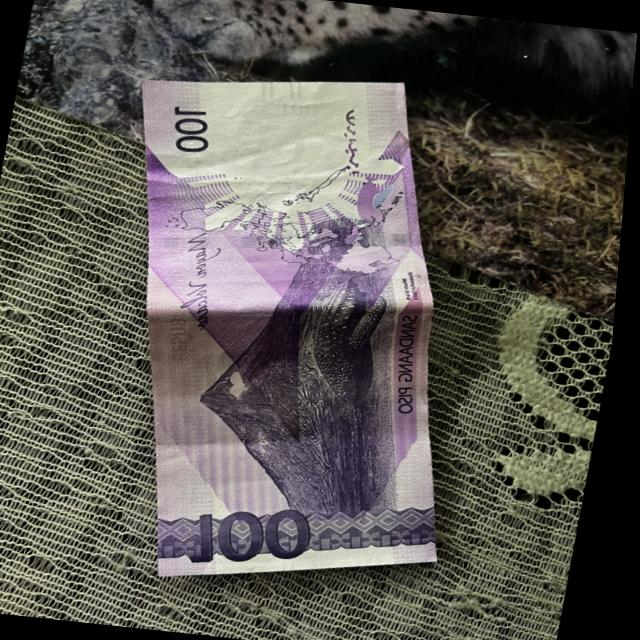see_through_mark: (335, 104, 371, 175)
value_watermark: (278, 98, 325, 122)
